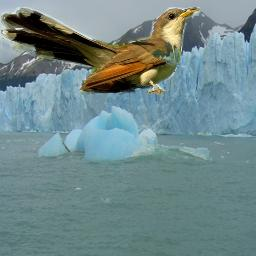Cuckoo: (1, 7, 200, 95)
